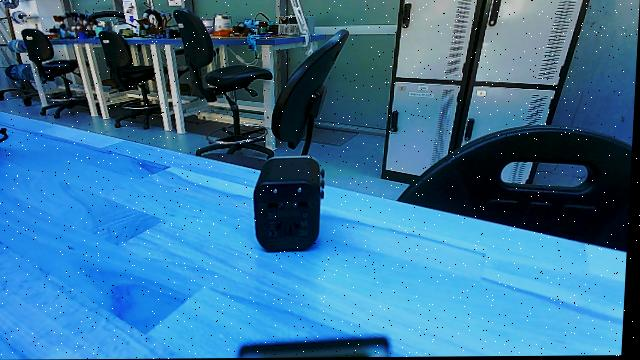adapter: (250, 155, 329, 264)
